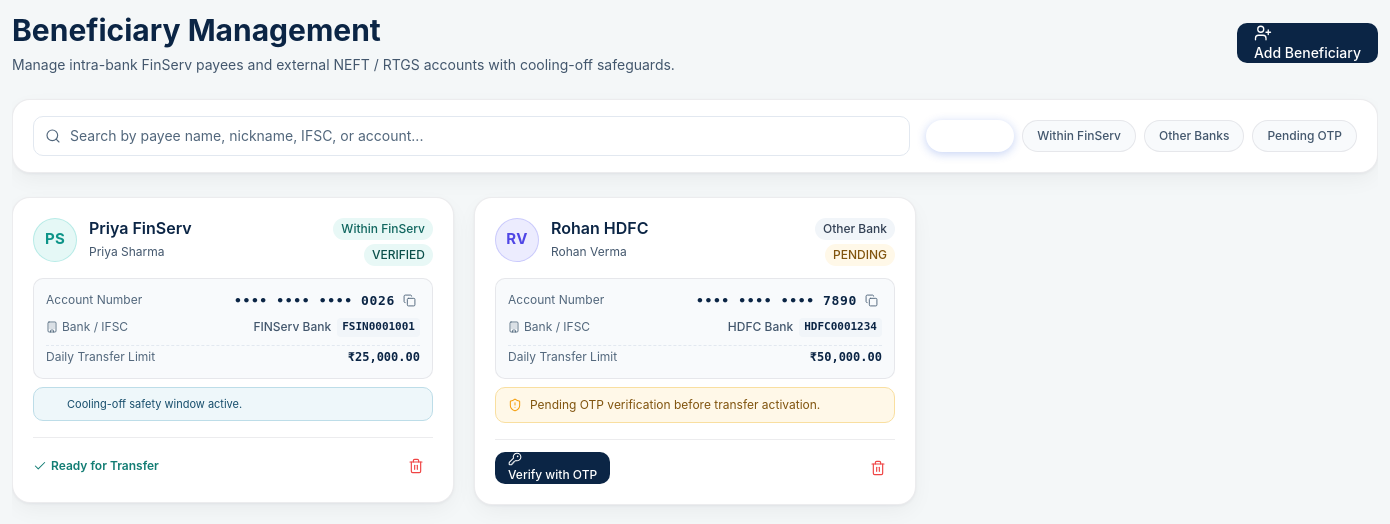
Test: BeneficiariesPage Component › filters payees by search query and tabs
Check: the text "Priya Sharma" is shown, box [89, 244, 164, 258]
# Search for "HDFC"
Type "HDFC" into the field with placeholder "Search by payee name, nickname, IFSC, or account..." at (472, 136), box [33, 116, 910, 156]
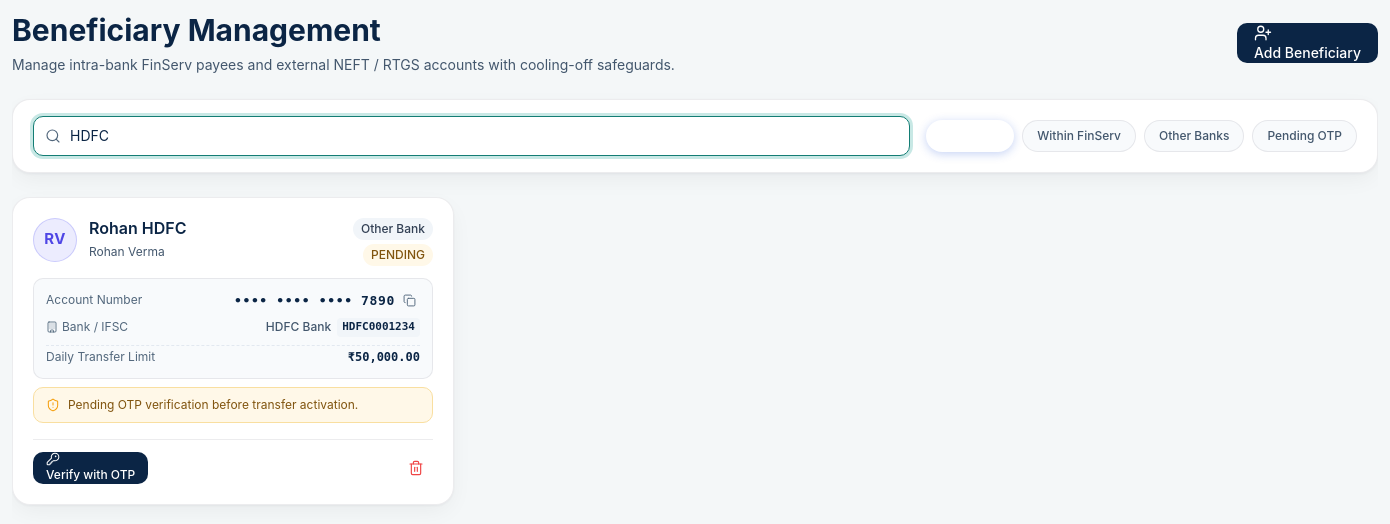
Check: the text "Rohan Verma" is shown, box [89, 244, 165, 258]
Check: the text "Priya Sharma" is gone
# Clear search
Clear the field with placeholder "Search by payee name, nickname, IFSC, or account..." at (472, 136), box [33, 116, 910, 156]
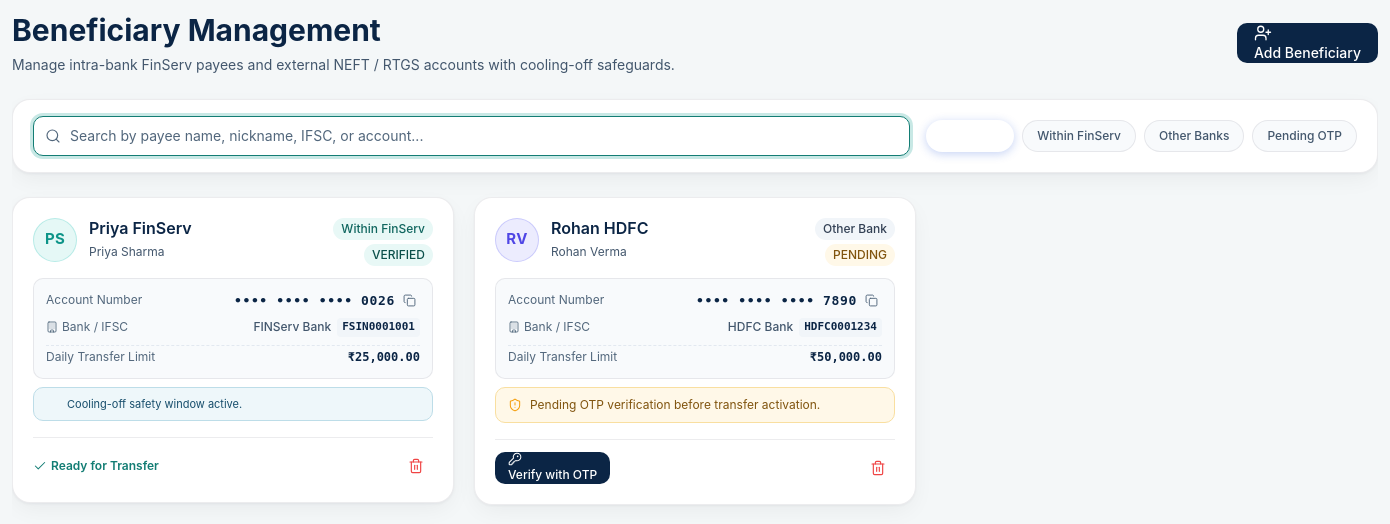
# Filter by "Within FinServ" tab
Click the button "Within FinServ" at (1079, 136), box [1022, 120, 1136, 152]
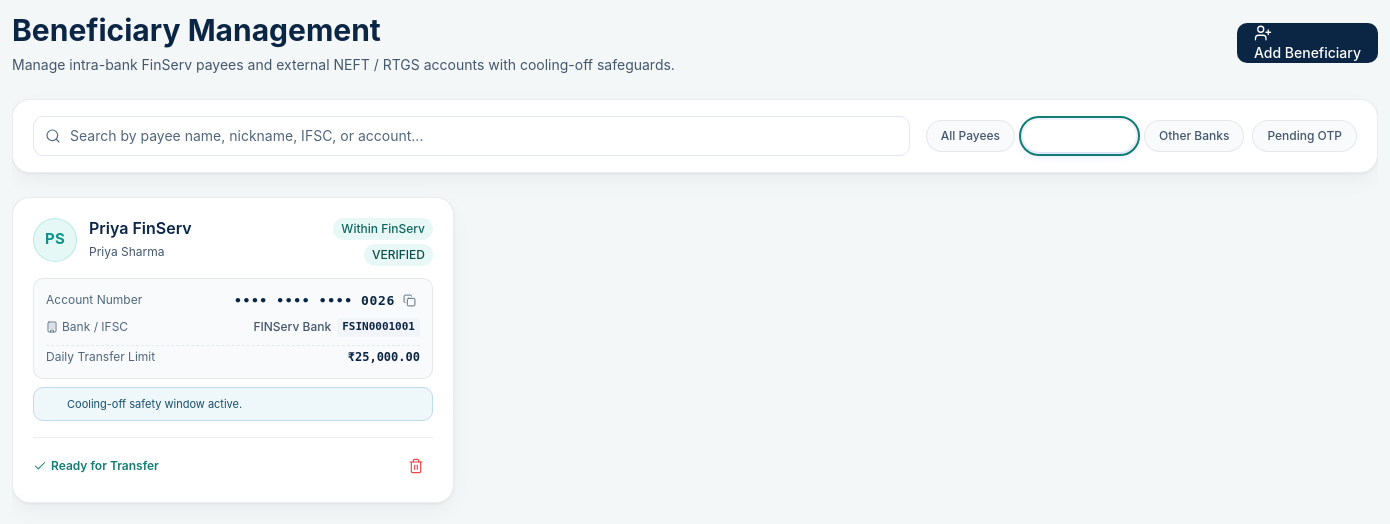
Check: the text "Priya Sharma" is shown, box [89, 244, 164, 258]
Check: the text "Rohan Verma" is gone
